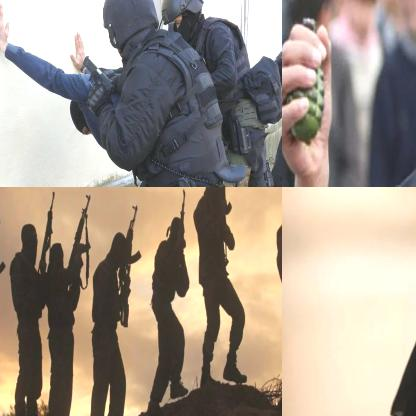pistol: (80, 56, 113, 114)
rifle: (116, 206, 142, 327), (67, 188, 98, 279), (35, 191, 59, 279), (170, 187, 192, 255), (221, 187, 236, 278), (0, 215, 8, 298)
